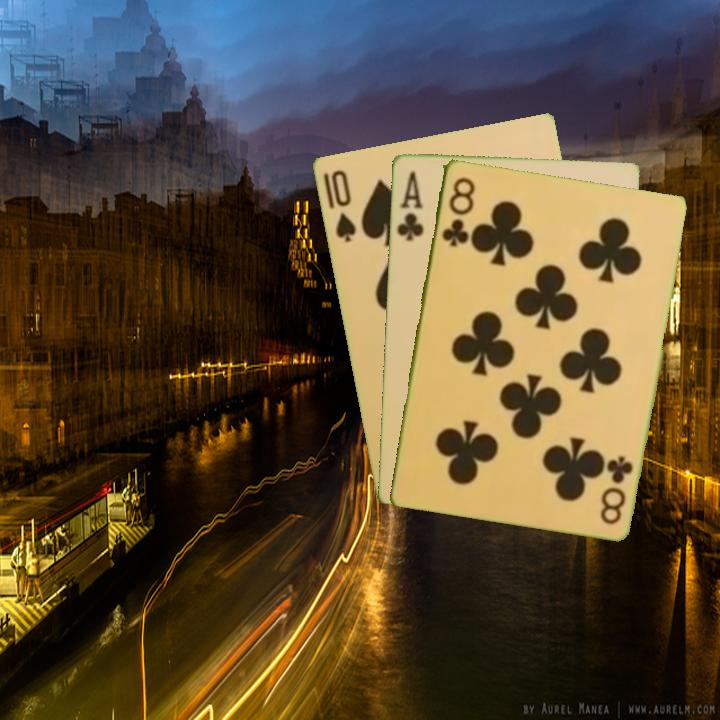10s: (327, 166, 359, 245)
8c: (438, 173, 477, 249), (597, 452, 636, 527)
Ac: (393, 167, 426, 243)
